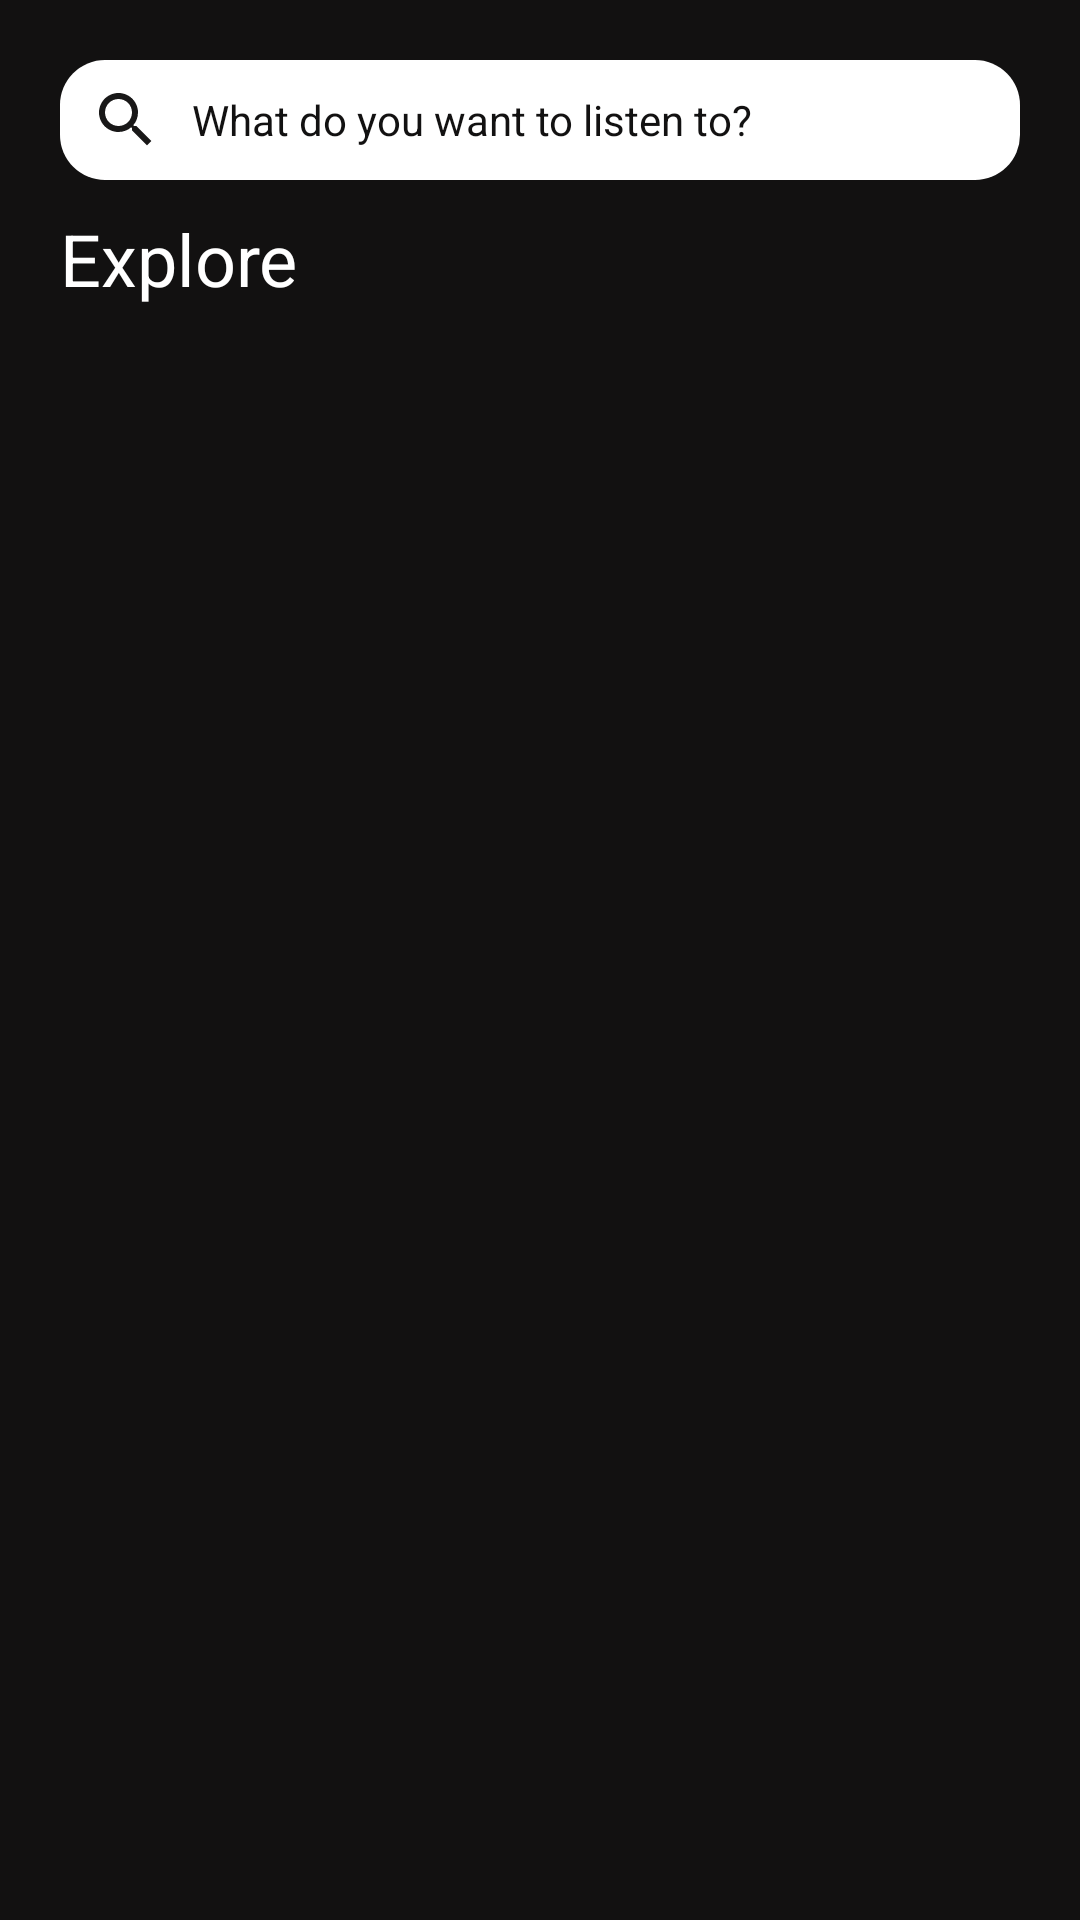

Icon click points for this 1080px x 1920px phone screenshot, format (x=x, y=y):
search blach: (x=125, y=119)
